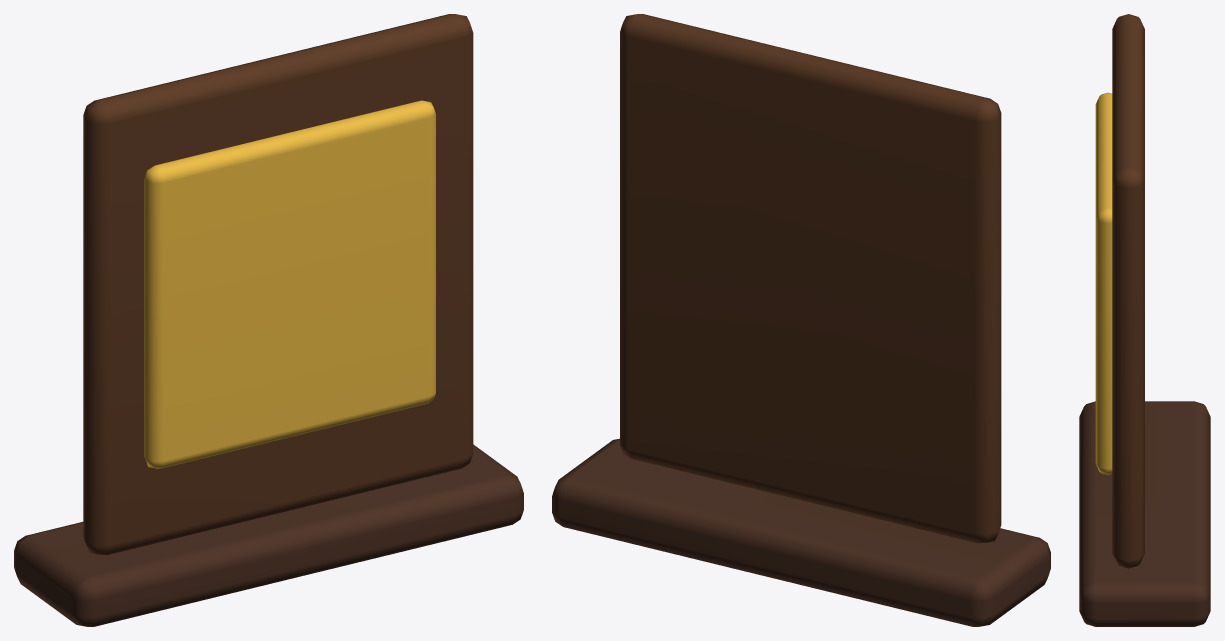
Rendered from furn_plaque_gold.glb.
The picture shows the model from 3 angles, left to right: view 1: azimuth 30°, elevation 25°; view 2: azimuth 150°, elevation 25°; view 3: azimuth 270°, elevation 25°; orthographic projection. The views are drawn at different scales.
Parts seen in each view (by area): view 1: furn_plaque_gold_main, furn_plaque_gold_gloss; view 2: furn_plaque_gold_main; view 3: furn_plaque_gold_main, furn_plaque_gold_gloss.
Boxes of the visible parts, box(x1,y1,x2,y2) form: furn_plaque_gold_main: box(14, 14, 523, 626); furn_plaque_gold_gloss: box(144, 100, 435, 468); furn_plaque_gold_main: box(552, 14, 1050, 626); furn_plaque_gold_main: box(1079, 14, 1210, 626); furn_plaque_gold_gloss: box(1095, 92, 1112, 474).
Size of the model in its own units: 0.28 by 0.3 by 0.08.
